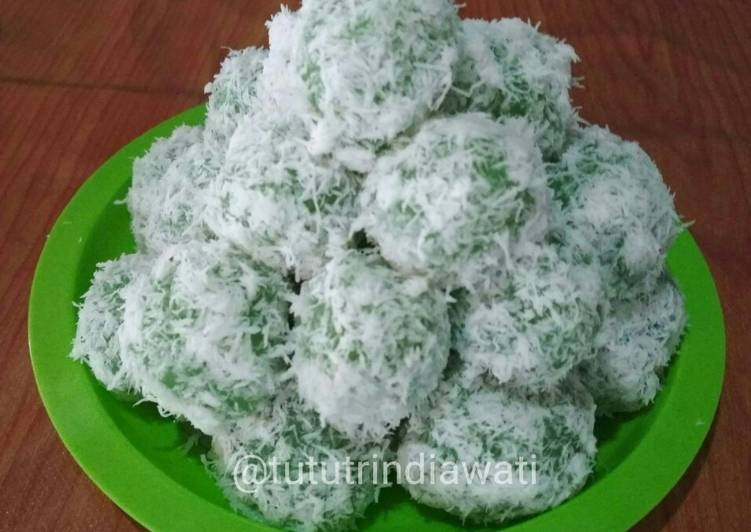klepon: (341, 112, 547, 277), (288, 238, 452, 441)
